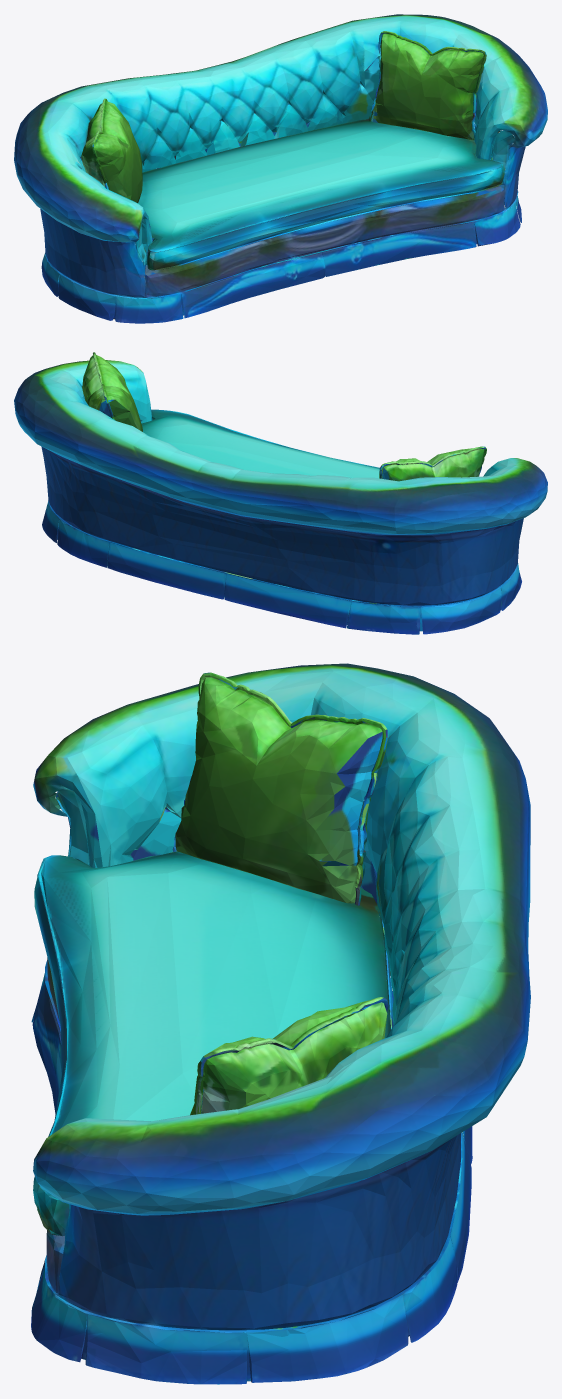
The model's file is edited_mesh.glb.
The picture shows the model from 3 angles, top to bottom: view 1: azimuth 30°, elevation 25°; view 2: azimuth 150°, elevation 25°; view 3: azimuth 270°, elevation 25°; orthographic projection. The views are drawn at different scales.
Visible parts, largest first — view 1: solid_001_wire; view 2: solid_001_wire; view 3: solid_001_wire.
Boxes of the visible parts, left/top/right/bottom form: solid_001_wire: left=14, top=14, right=547, bottom=323; solid_001_wire: left=14, top=352, right=547, bottom=634; solid_001_wire: left=31, top=663, right=530, bottom=1384.
Bounding box in the file's own units: 2 × 0.5993 × 0.8724.
1 material, 1 textured.
